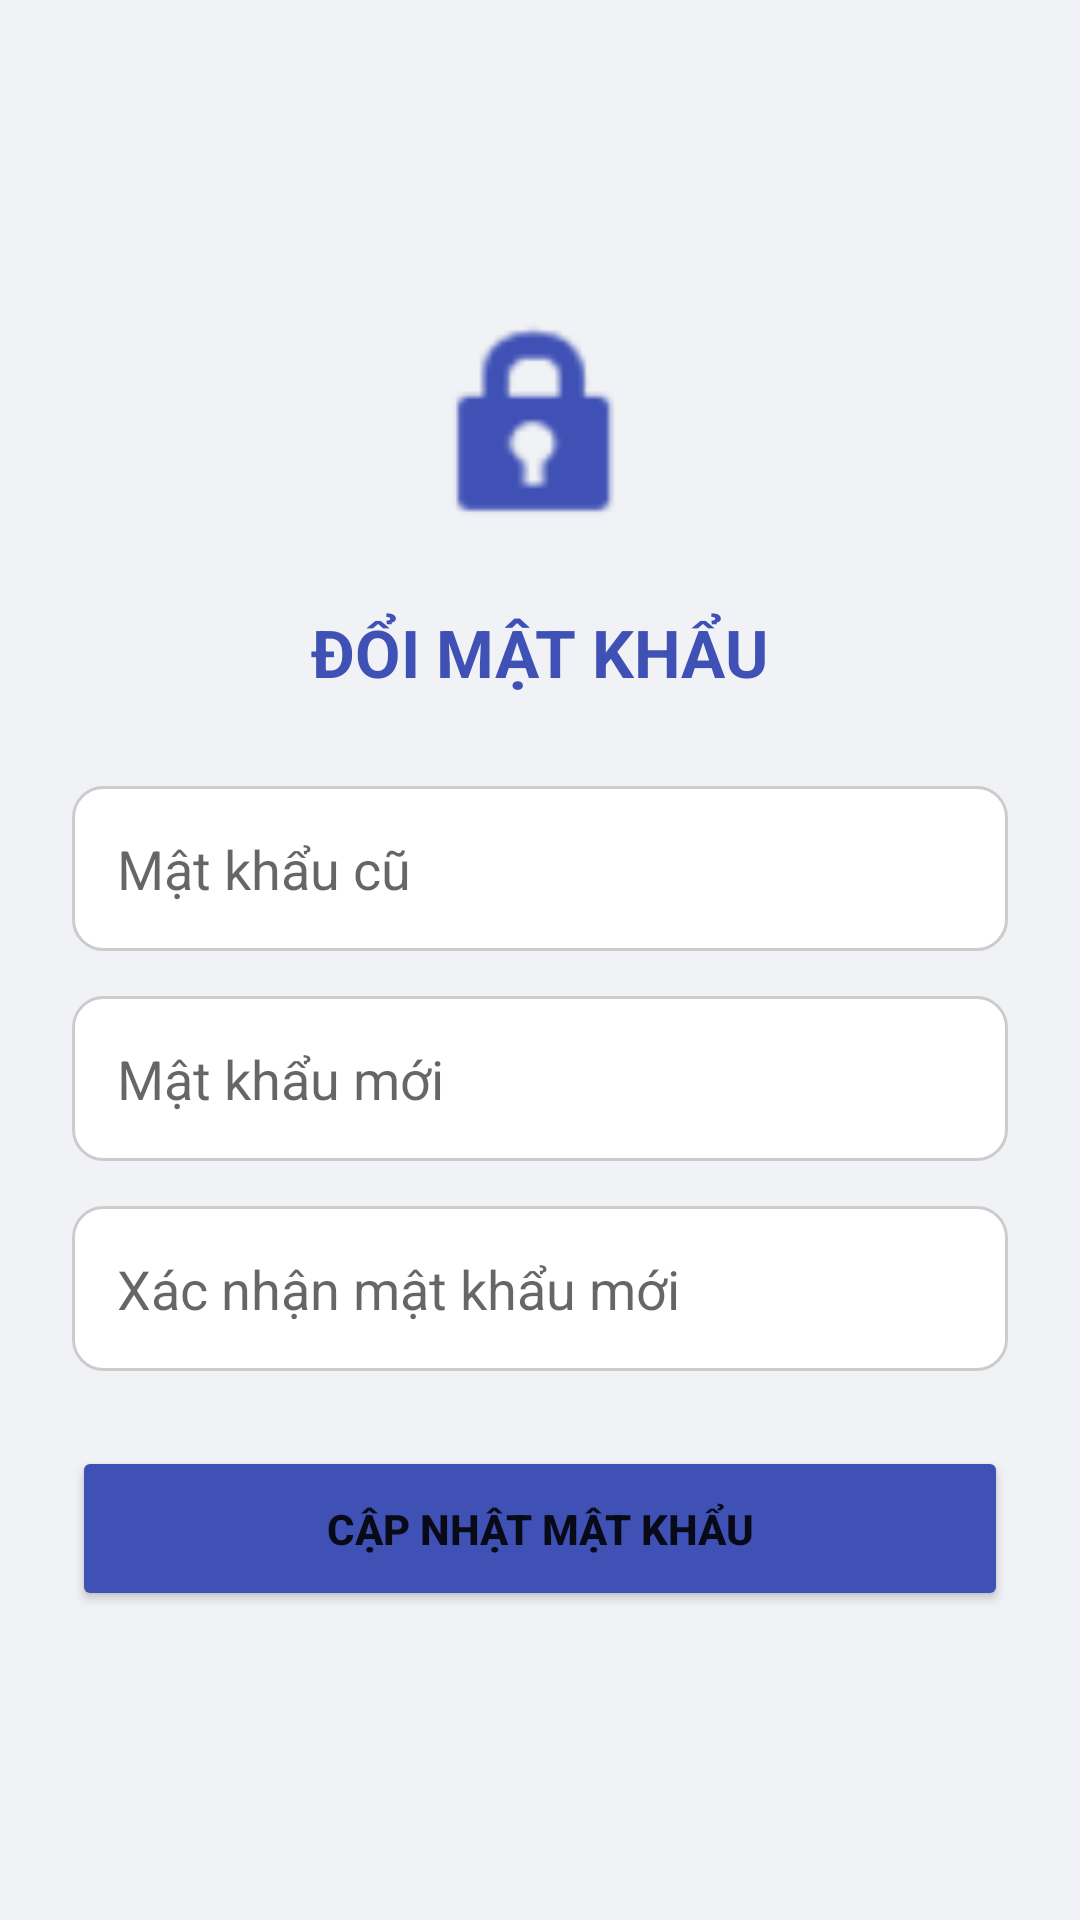

Named icons in this screenshot (1080x1920) and their bounding boxes, (x1, y1, x2, y2):
lock idle: (456, 329, 613, 512)
